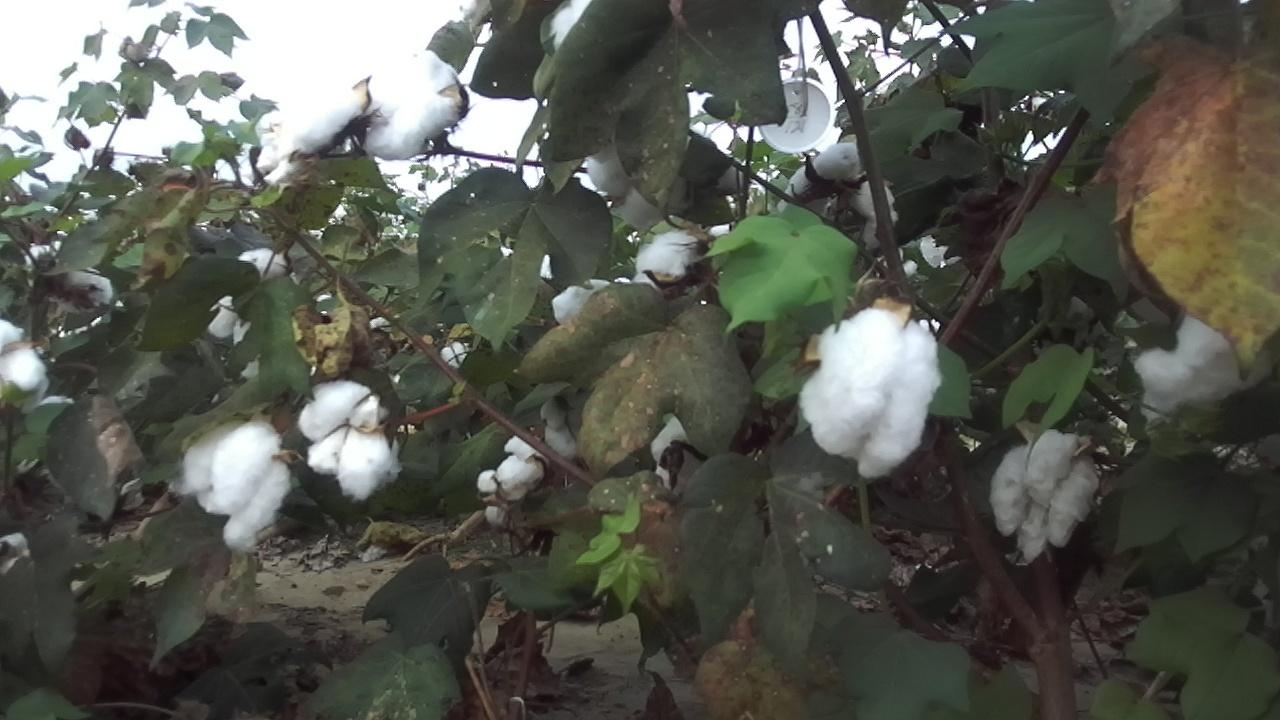cotton_ready: (800, 310, 939, 475), (175, 417, 292, 554), (1135, 311, 1270, 424), (774, 149, 899, 255), (993, 434, 1095, 561), (257, 77, 364, 187), (303, 382, 397, 503), (367, 44, 464, 161), (587, 146, 679, 227), (479, 435, 540, 529), (648, 415, 712, 498), (636, 232, 710, 303), (0, 321, 49, 400), (47, 267, 115, 314), (554, 281, 621, 324), (539, 393, 584, 455), (212, 295, 255, 350), (237, 244, 289, 278)
